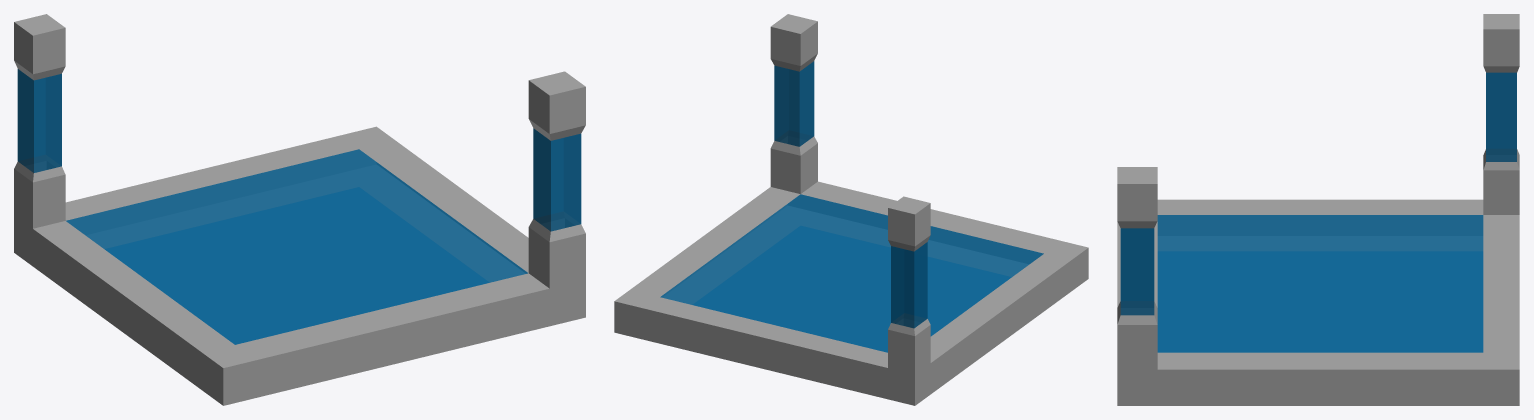
File: PlatformByme.fbx
3 renders of one model, left to right at view 1: azimuth 30°, elevation 25°; view 2: azimuth 150°, elevation 25°; view 3: azimuth 270°, elevation 25°, orthographic. The views are drawn at different scales.
Visible parts, largest first — view 1: pCube1; view 2: pCube1; view 3: pCube1.
Boxes of the visible parts, x1,y1,x2,y2 form: pCube1: (14,14,585,405); pCube1: (614,14,1088,405); pCube1: (1117,14,1519,405).
Bounding box in the file's own units: 1 × 0.6085 × 1.
